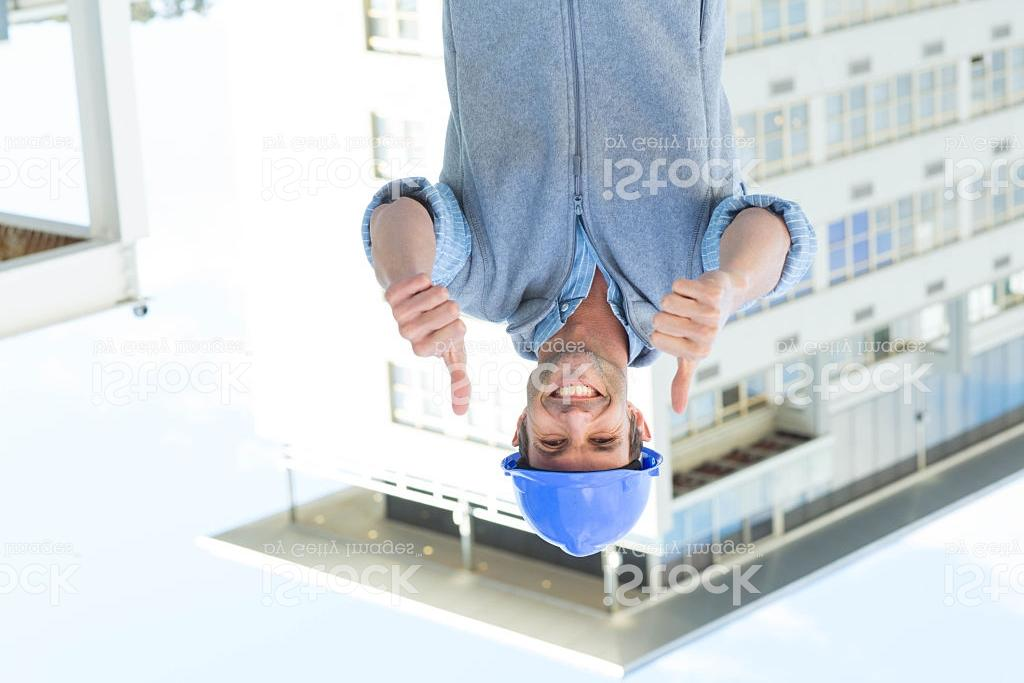thumbsdown: (382, 273, 471, 418), (646, 273, 730, 415)
